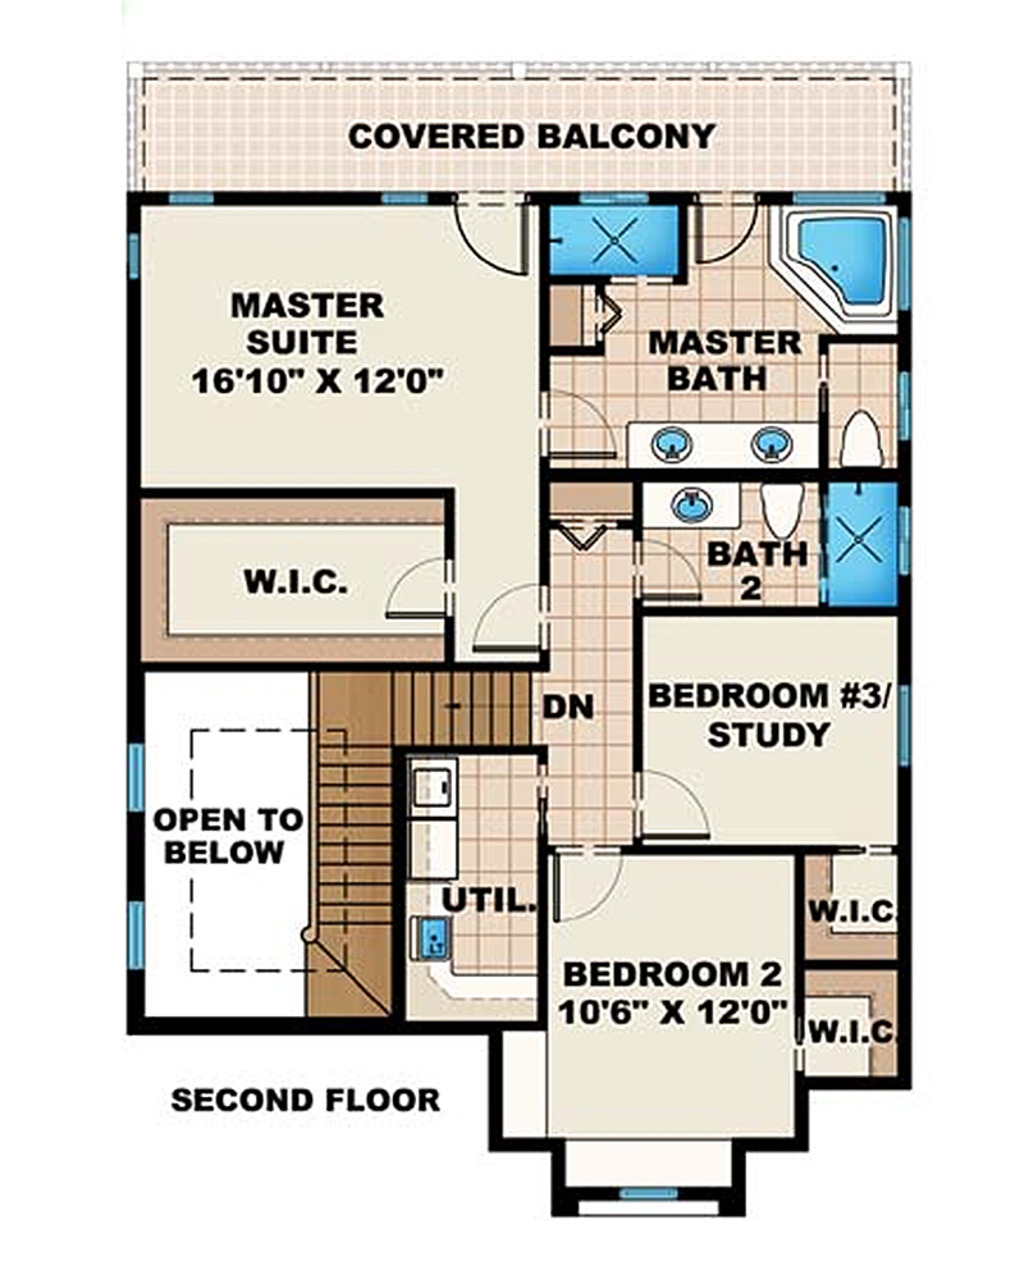door: (549, 847, 630, 927), (453, 195, 529, 280), (691, 185, 762, 268), (374, 550, 450, 626), (637, 768, 716, 841), (472, 581, 541, 661), (630, 538, 704, 608), (543, 392, 618, 462)
large_sink: (754, 474, 818, 542), (837, 404, 884, 474)
small_sink: (620, 416, 822, 474), (643, 480, 745, 531)
stairs: (303, 664, 404, 1019)
windows: (893, 678, 916, 778), (120, 735, 147, 814), (123, 900, 149, 978)
